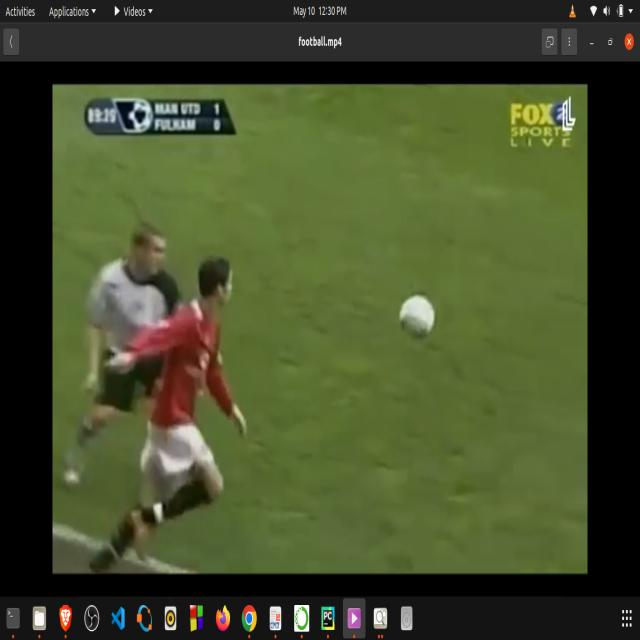Ball: (396, 285, 446, 347)
football-players: (101, 248, 262, 576), (60, 207, 175, 475)
